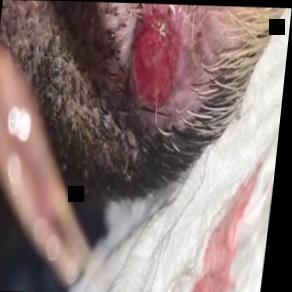skin_lesions: (122, 9, 184, 108)
